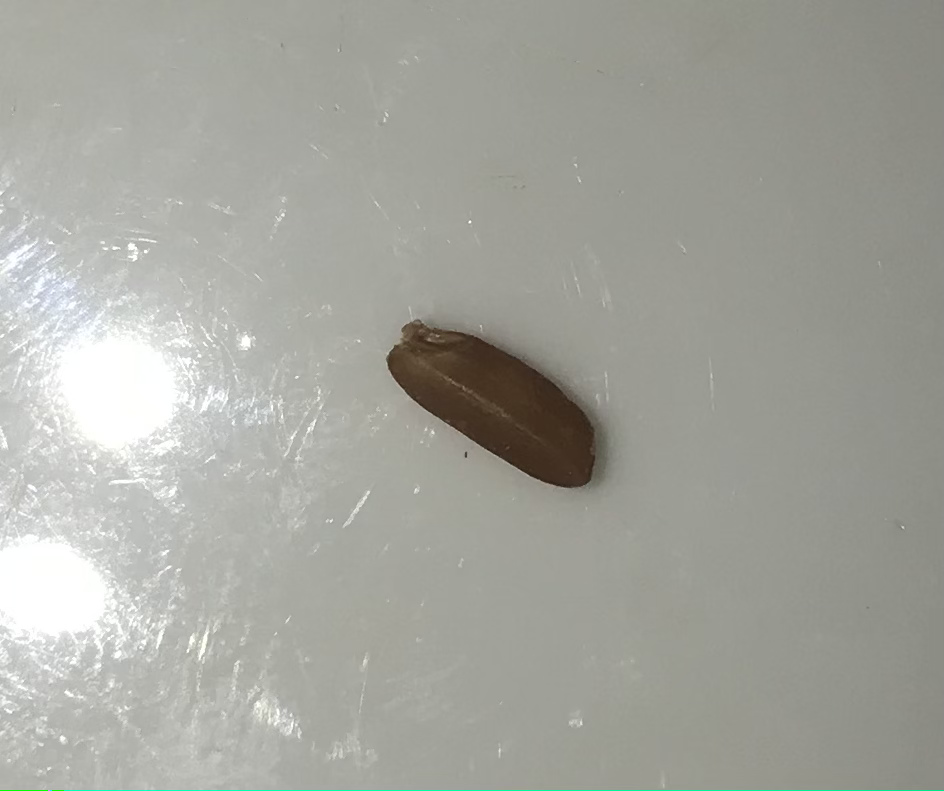Gao Lut Do: (372, 310, 603, 501)
